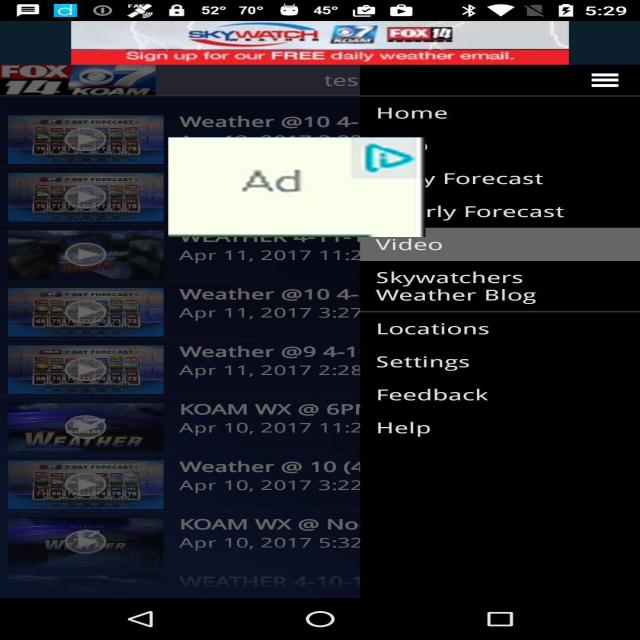sneaking: (168, 137, 426, 237)
